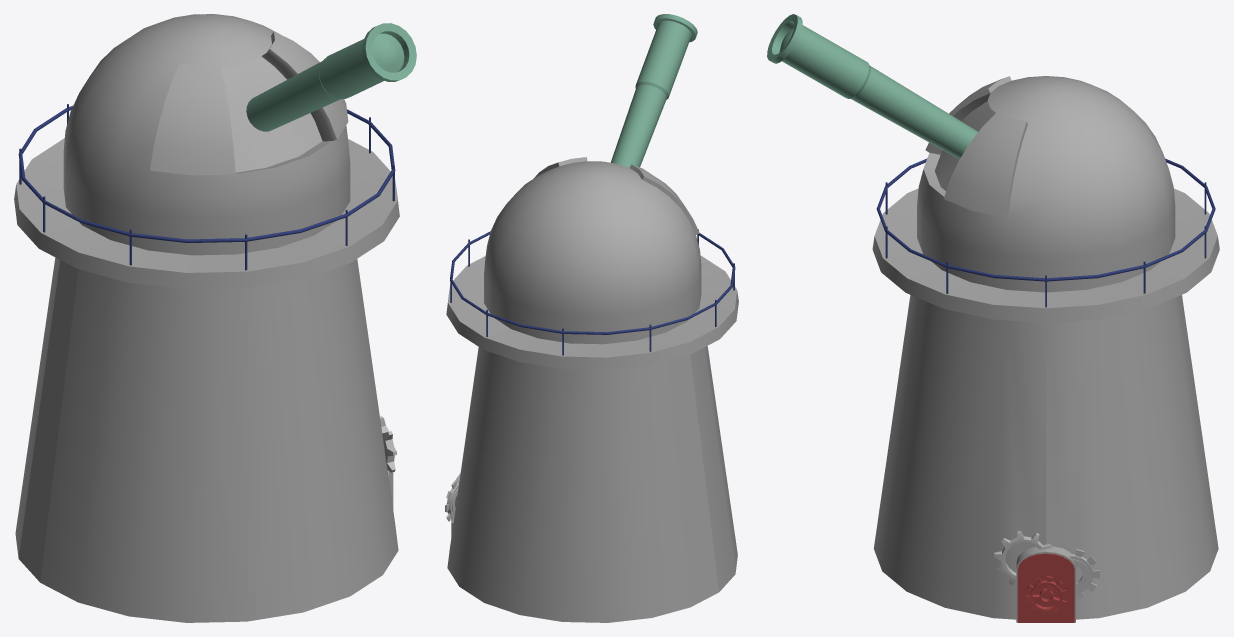
The model's file is LAB.fbx.
3 views of the same model, side by side, from view 1: azimuth 30°, elevation 25°; view 2: azimuth 150°, elevation 25°; view 3: azimuth 270°, elevation 25° (orthographic). The views are drawn at different scales.
Parts seen in each view (by area): view 1: polySurface7, pCylinder2, pCylinder13; view 2: polySurface7, pCylinder2, pCylinder13; view 3: polySurface7, pCylinder2, polySurface5, pCylinder13.
Part boxes in pixels (x1=…): polySurface7: x1=14, y1=14, x2=399, y2=622; pCylinder2: x1=246, y1=23, x2=416, y2=131; pCylinder13: x1=18, y1=104, x2=395, y2=270; polySurface7: x1=445, y1=157, x2=738, y2=622; pCylinder2: x1=611, y1=14, x2=697, y2=167; pCylinder13: x1=450, y1=229, x2=735, y2=355; polySurface7: x1=872, y1=76, x2=1219, y2=622; pCylinder2: x1=767, y1=14, x2=977, y2=158; polySurface5: x1=1017, y1=553, x2=1074, y2=622; pCylinder13: x1=876, y1=158, x2=1215, y2=307.
Bounding box in the file's own units: 18.38 × 31.28 × 23.45.
